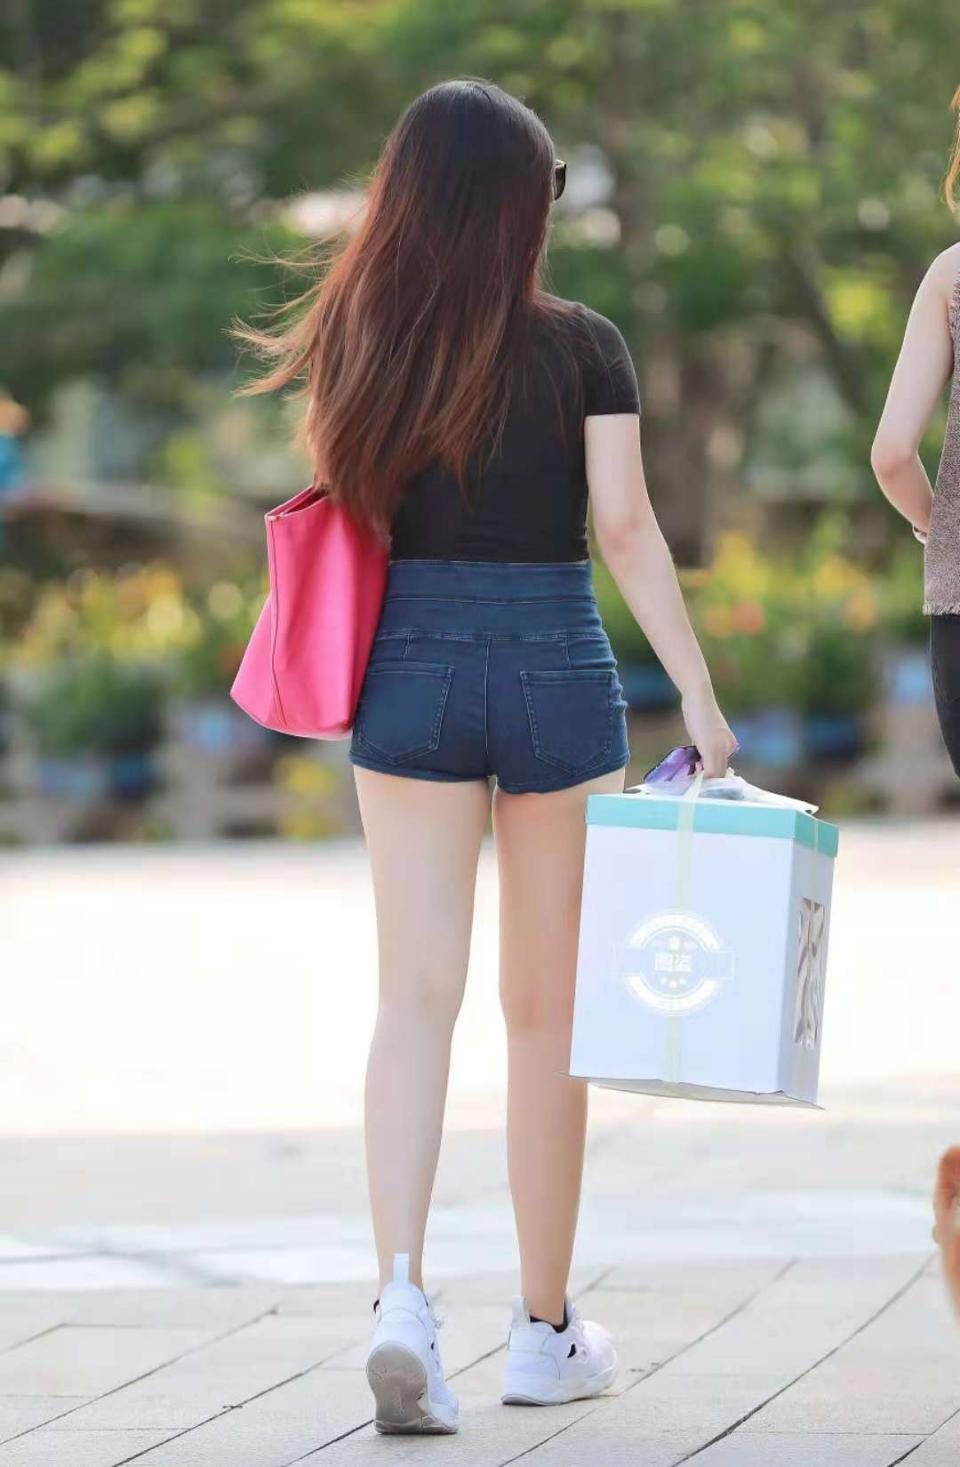people: (334, 83, 655, 1416)
